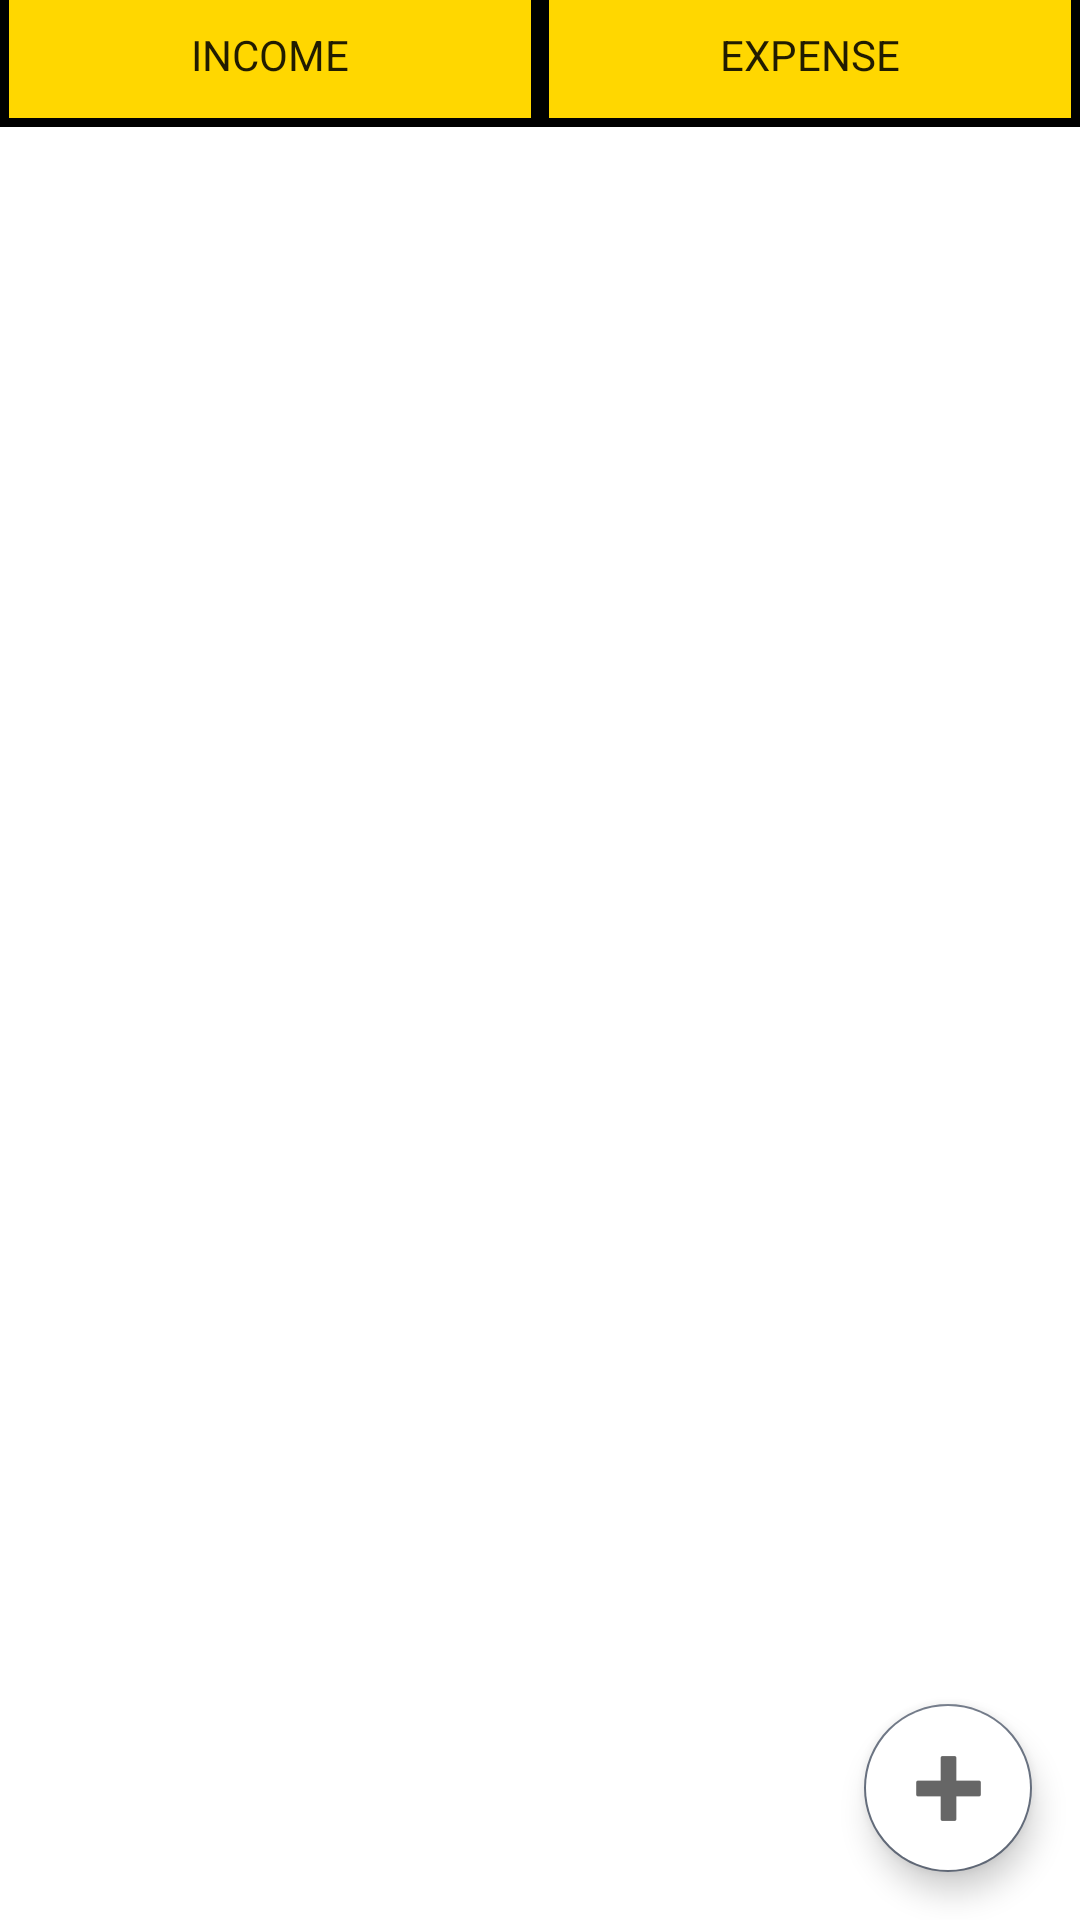

Screen size 1080x1920. Icon name, then its box in pixels as {"x1": x1, "y1": y1, "x2": x2, "y2": y2}:
floating plus sign: {"x1": 864, "y1": 1704, "x2": 1032, "y2": 1872}
